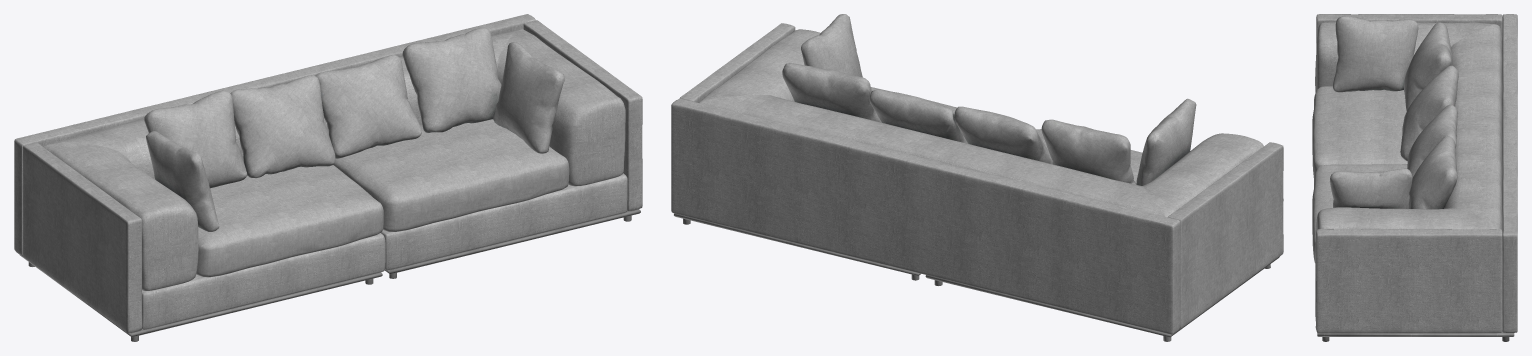
The model's file is sofa_4.glb.
3 views of the same model, side by side, from view 1: azimuth 30°, elevation 25°; view 2: azimuth 150°, elevation 25°; view 3: azimuth 270°, elevation 25° (orthographic). The views are drawn at different scales.
Parts seen in each view (by area): view 1: g; view 2: g; view 3: g.
Boxes of the visible parts, x1,y1,x2,y2 form: g: (14,14,642,341); g: (671,14,1283,341); g: (1312,14,1517,341).
Bounding box in the file's own units: 3.2 × 0.9626 × 1.25.
6 materials, 6 textured.
